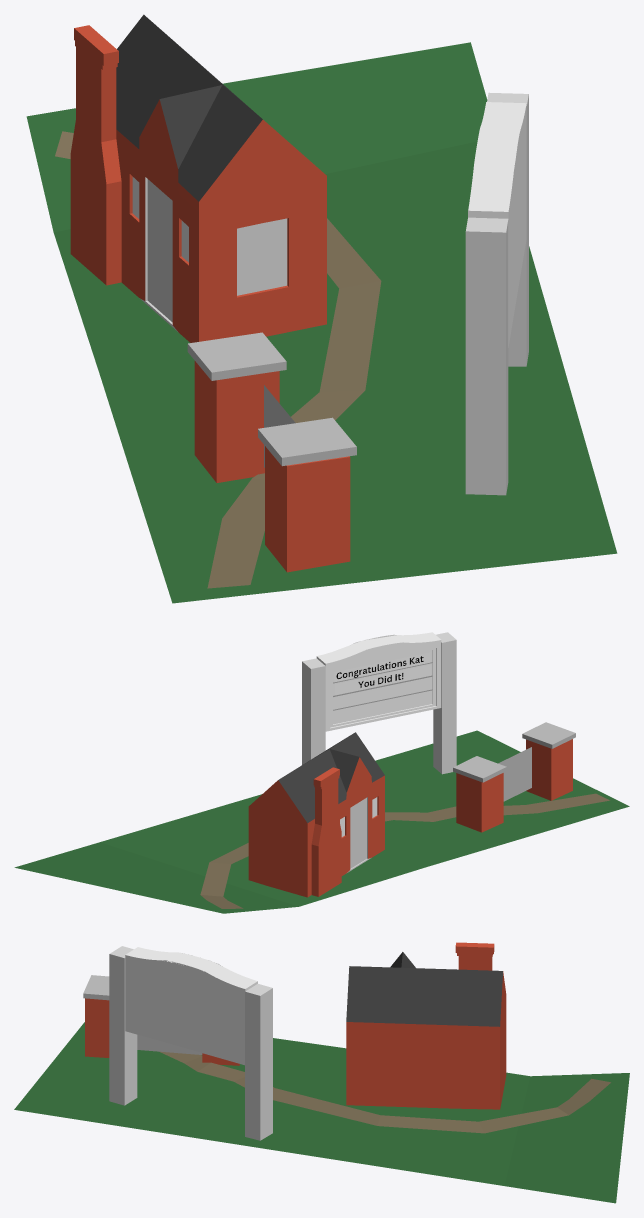
Rendered from guardhouse2.glb.
3 views of the same model, one above another, from view 1: azimuth 30°, elevation 25°; view 2: azimuth 150°, elevation 25°; view 3: azimuth 270°, elevation 25° (orthographic). The views are drawn at different scales.
Parts seen in each view (by area): view 1: entrysign; view 2: entrysign, Congratulations Kat You Did It!, Congratulations Kat You Did It!.001; view 3: entrysign.
Part boxes in pixels (x1,y1,x2,y2): entrysign: (26,14,617,603); entrysign: (14,632,629,913); Congratulations Kat You Did It!: (334,664,430,694); Congratulations Kat You Did It!.001: (334,652,430,682); entrysign: (14,942,629,1203).
Size of the model in its own units: 0.0634 by 0.0233 by 0.0789.
Materials: 9 (1 with a texture image).
